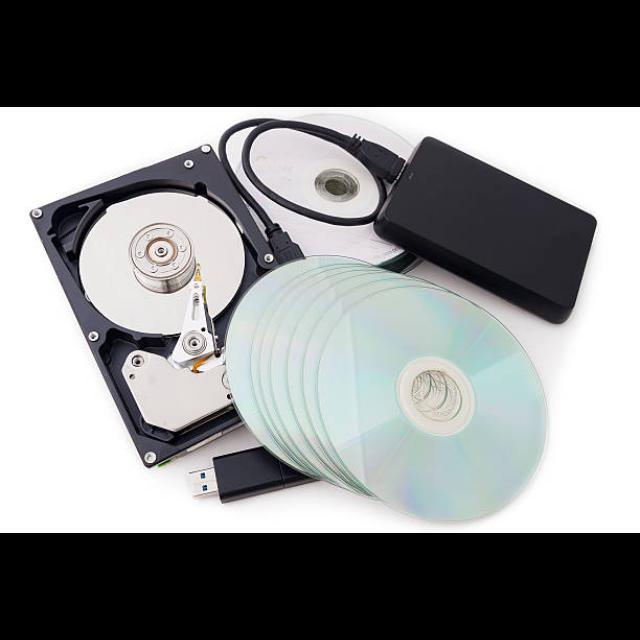HDD: (371, 136, 596, 325)
